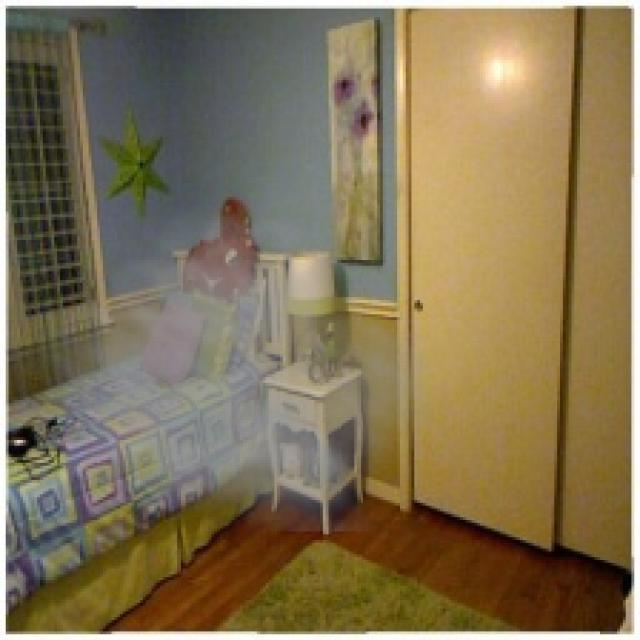Smoke: (26, 172, 452, 532)
